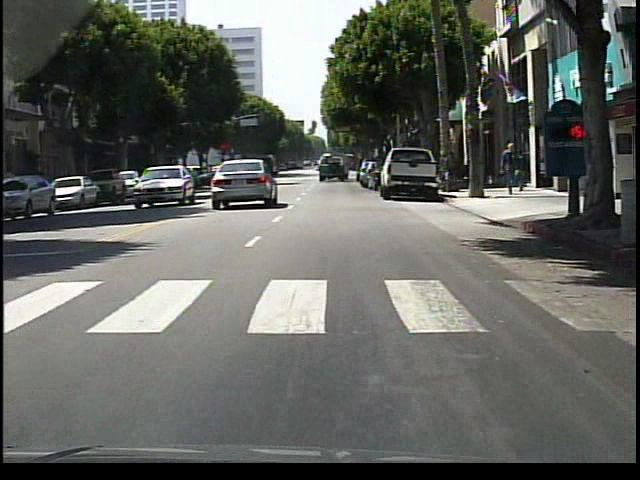person: (501, 143, 521, 199), (515, 149, 531, 193), (229, 159, 241, 202)
